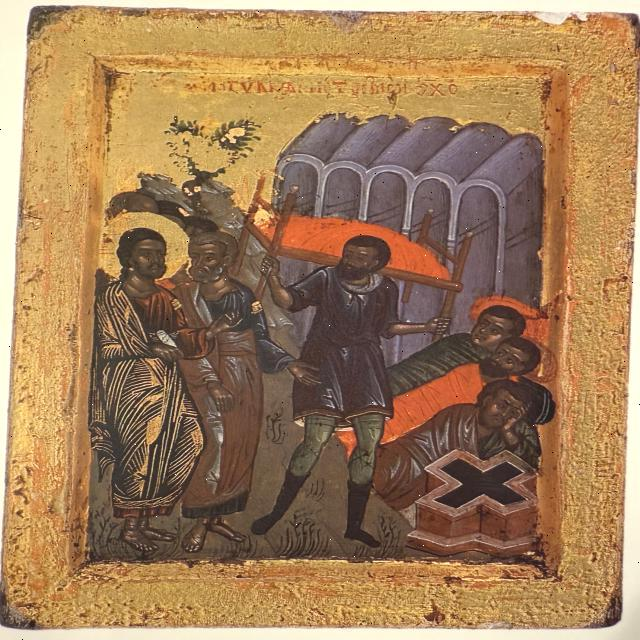aura: (97, 214, 189, 280)
christ: (79, 215, 195, 559)
christ_hand: (189, 311, 246, 340)
